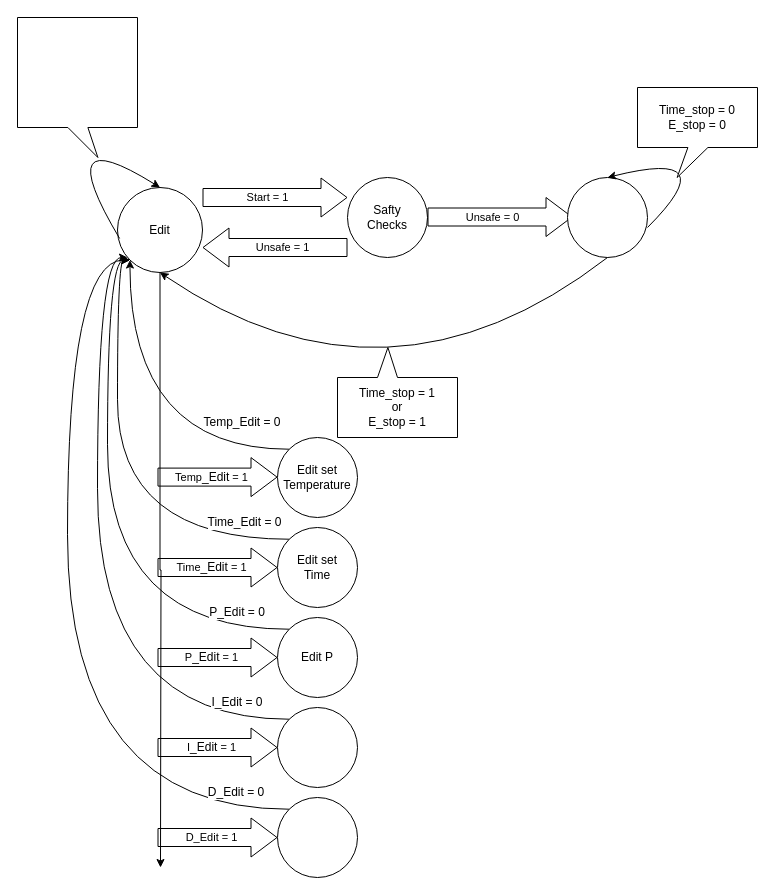
Image size: 775x895. Some labels were removed from this diagram. Each missing label, with the box of its shape:
Edit D: (276, 796, 358, 878)
Edit I: (276, 706, 358, 788)
Power = 1 Start = 0 Temp_Edit = 0 Time_Edit = 0 P_Edit =0 I_Edit = 0 D_Edit =0: (16, 16, 138, 158)
Run Oven: (566, 176, 648, 258)
